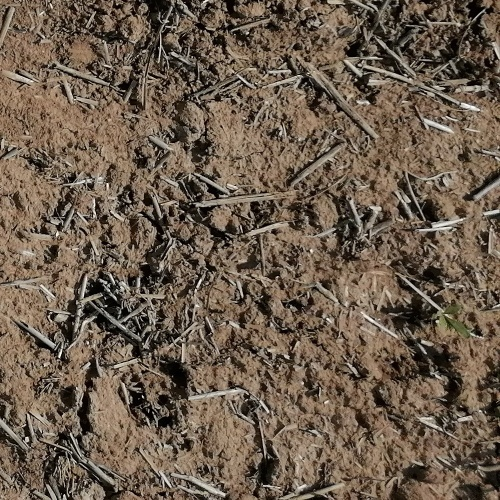beet: (436, 301, 471, 342)
